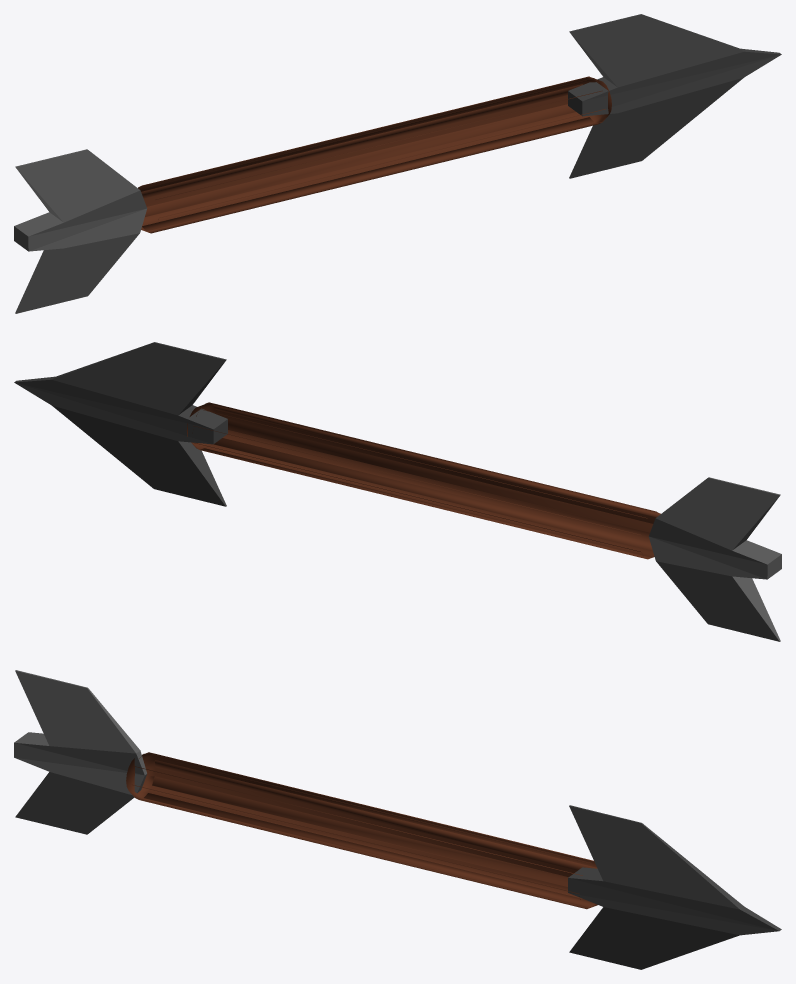
Rendered from flecha.fbx.
3 views of the same model, one above another, from view 1: azimuth 30°, elevation 25°; view 2: azimuth 150°, elevation 25°; view 3: azimuth 330°, elevation 25° (orthographic).
Visible parts, largest first — view 1: flecha; view 2: flecha; view 3: flecha.
Boxes of the visible parts, <box> form: flecha: <box>14,14,781,313</box>; flecha: <box>14,342,781,641</box>; flecha: <box>14,670,781,969</box>.
Bounding box in the file's own units: 118 × 21.56 × 6.38.
